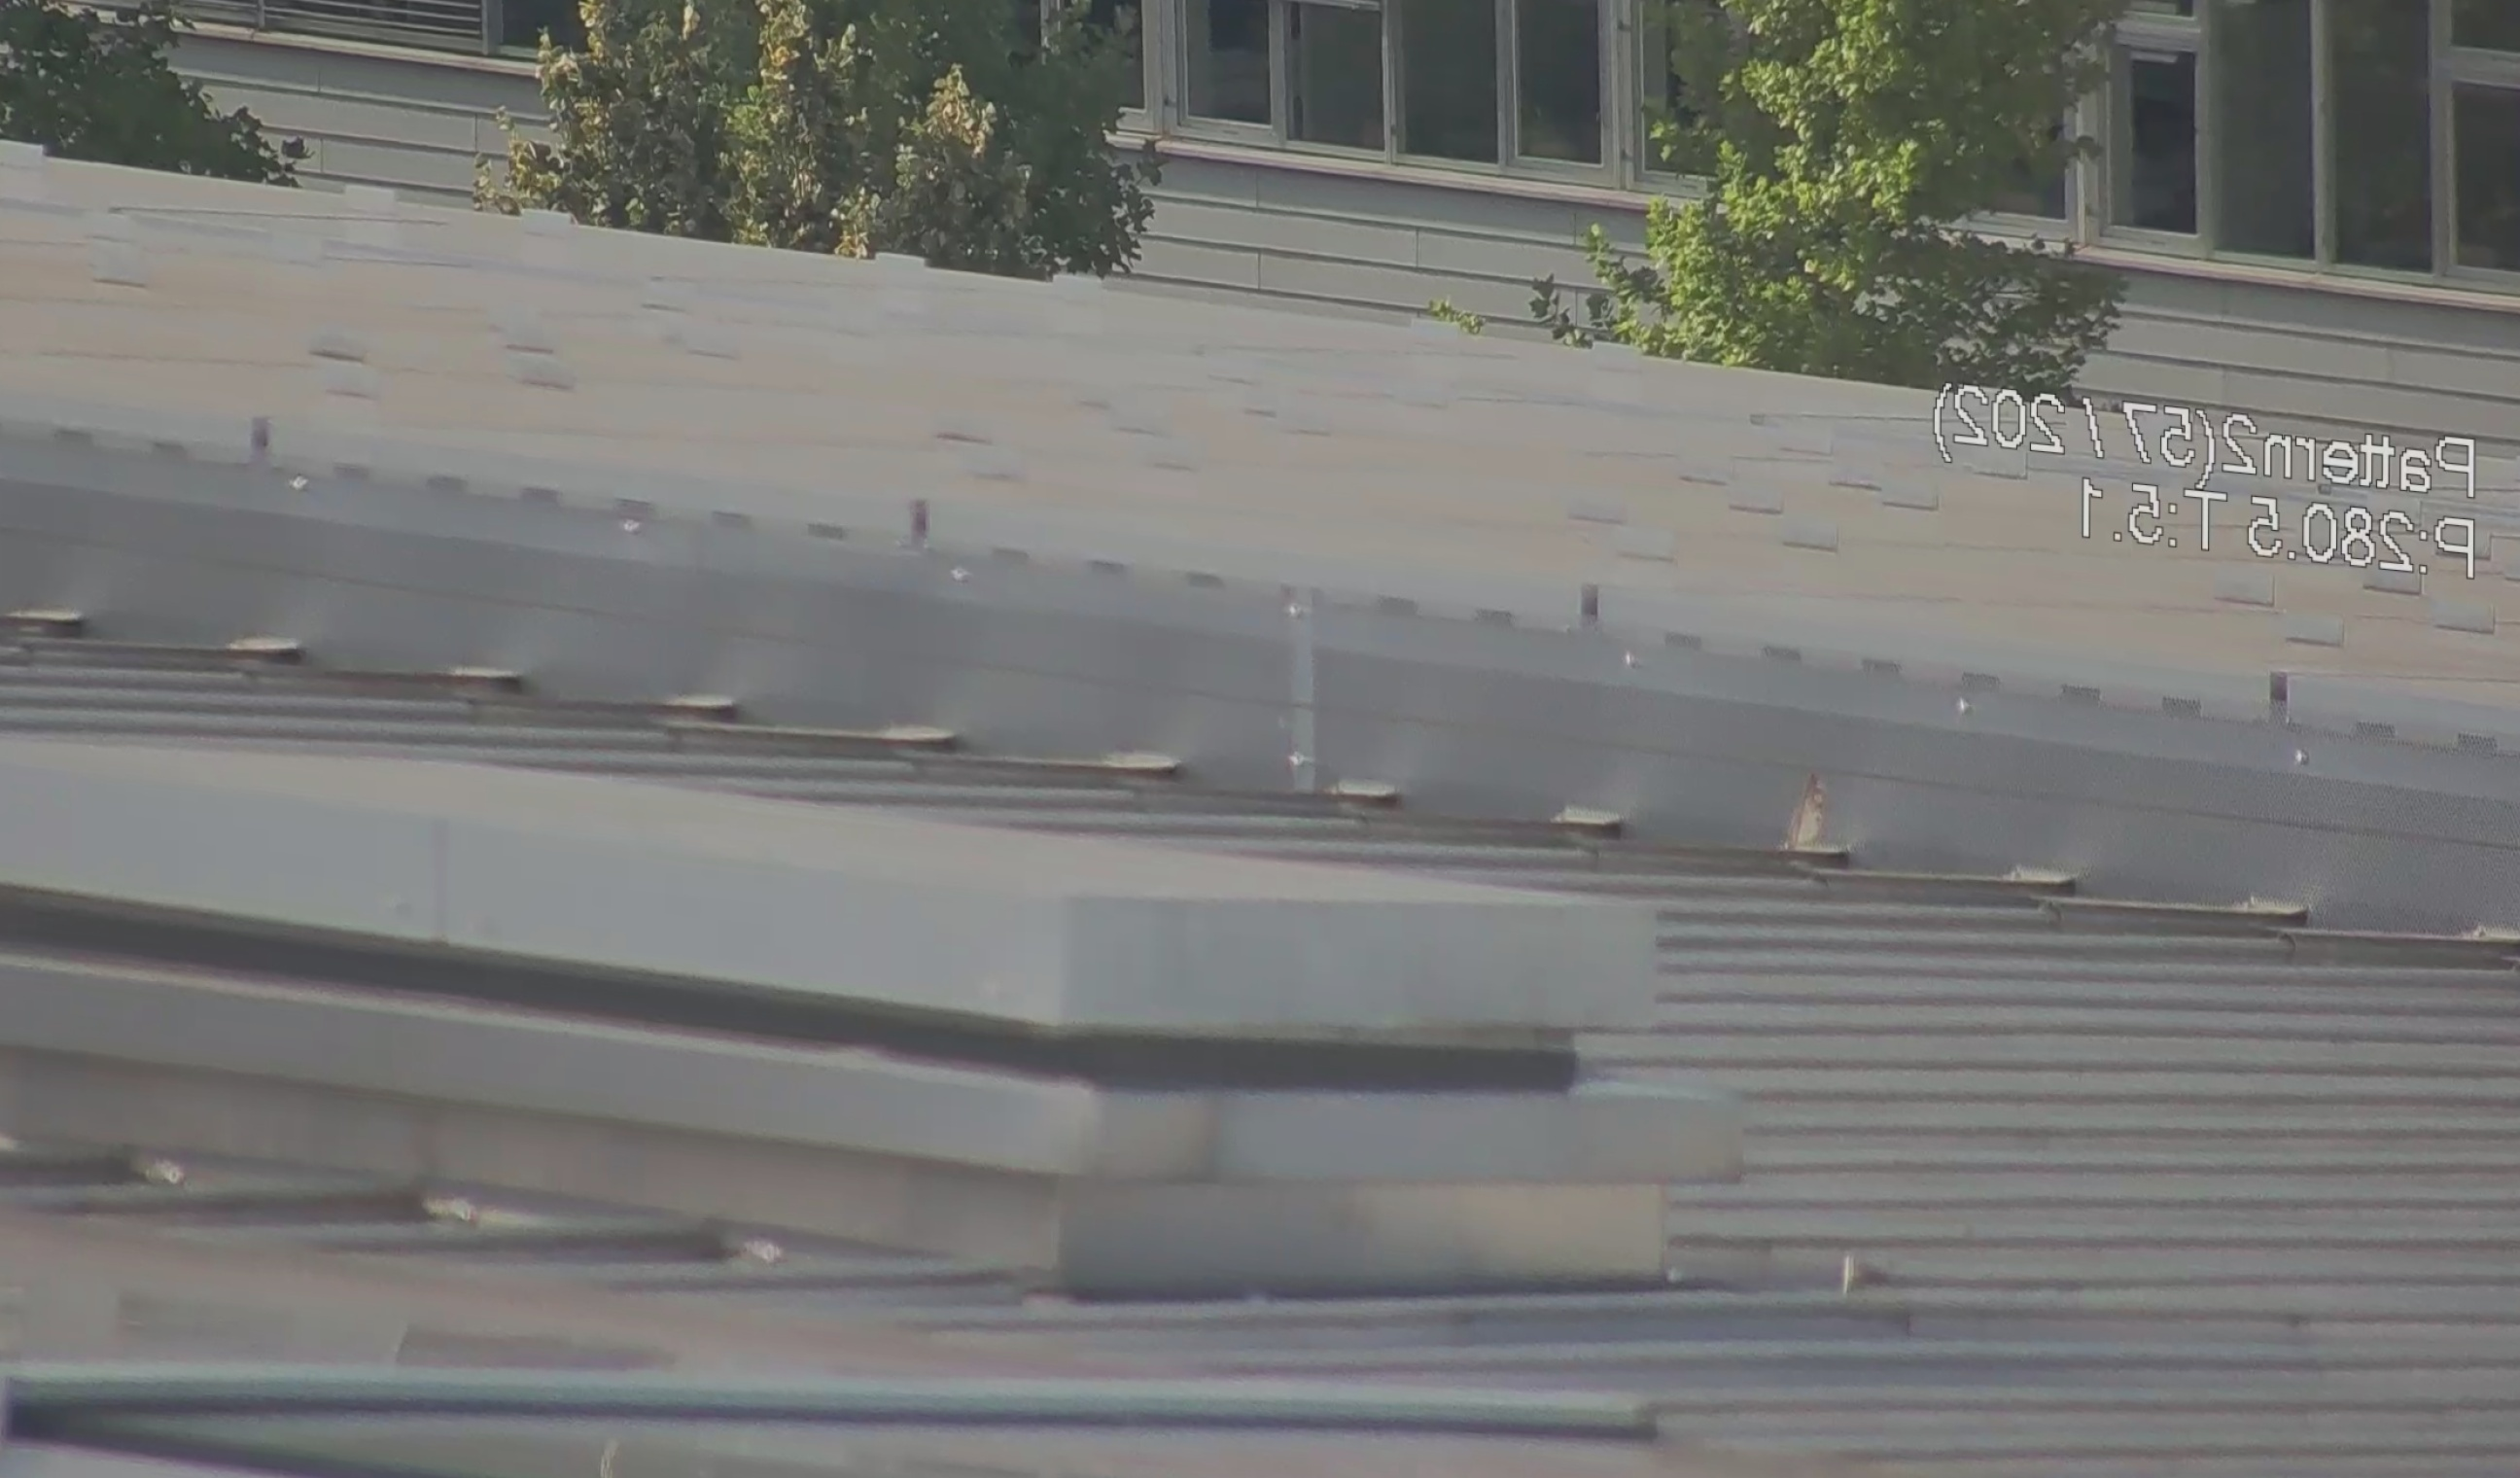Other: (1783, 744, 1866, 880)
